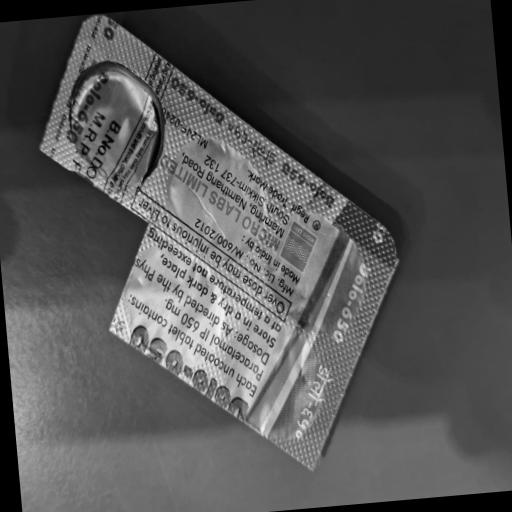dolo-650: (123, 309, 263, 426), (274, 149, 341, 238), (56, 60, 118, 154), (161, 62, 227, 143)
medicine: (73, 64, 351, 488)
